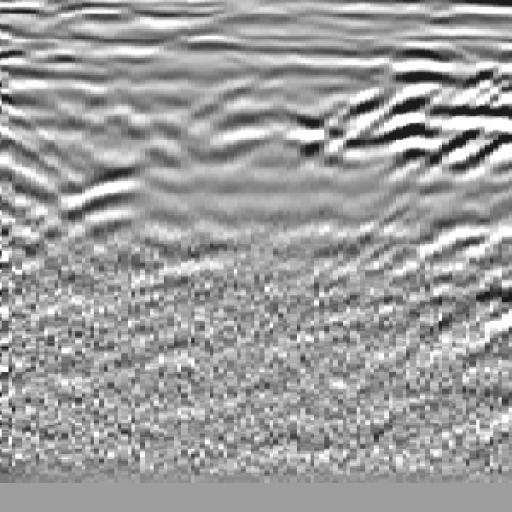metalic: (41, 35, 196, 264)
nonmetalic: (370, 35, 512, 257)
